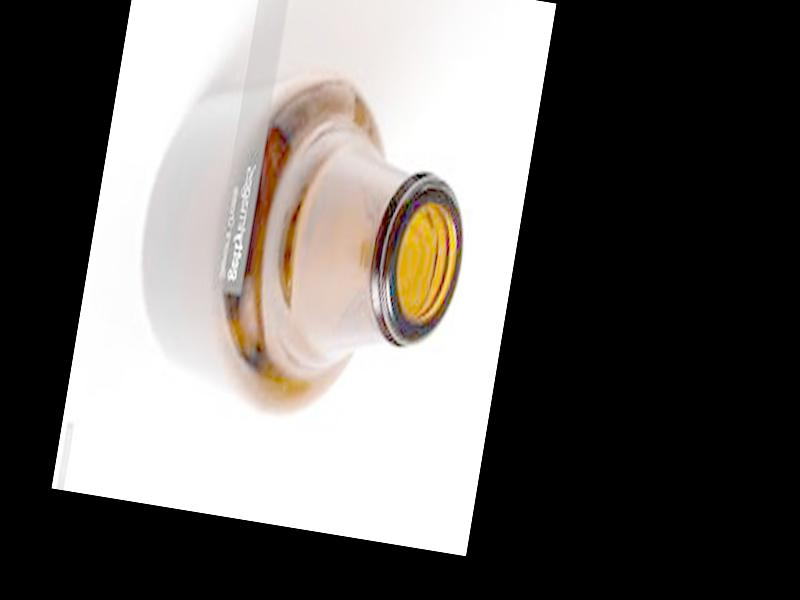Beer: (117, 45, 489, 438)
